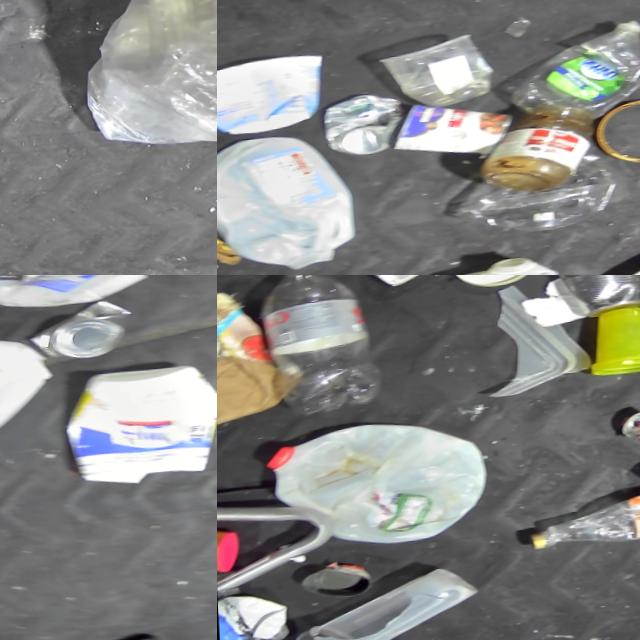can: (389, 100, 514, 169), (28, 298, 135, 367), (321, 94, 404, 162), (553, 275, 640, 325), (296, 561, 373, 603), (613, 409, 640, 468)
milk_jug: (264, 412, 489, 557), (217, 131, 354, 275), (0, 331, 56, 480), (0, 275, 172, 316)
non_white_jug: (217, 588, 291, 640)
plastic_bottle: (257, 275, 378, 420), (507, 25, 640, 128), (520, 478, 640, 558)
